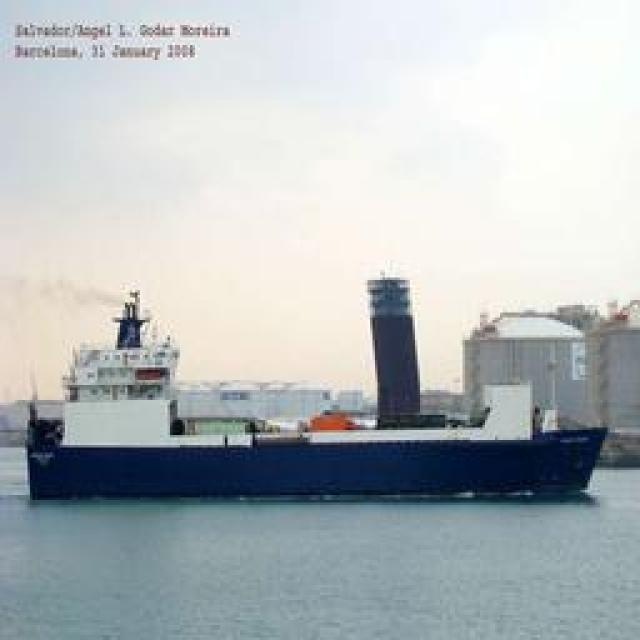Ship: (31, 265, 621, 505)
